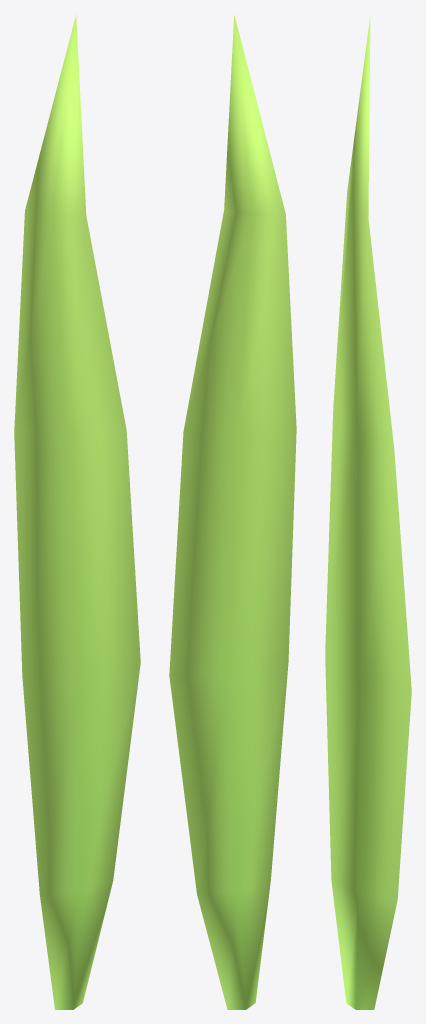
File: kelp.glb
3 renders of one model, left to right at view 1: azimuth 30°, elevation 25°; view 2: azimuth 210°, elevation 25°; view 3: azimuth 330°, elevation 25°, orthographic.
Visible parts, largest first — view 1: kelp; view 2: kelp; view 3: kelp.
Part boxes in pixels (x1=…): kelp: x1=14, y1=14, x2=140, y2=1009; kelp: x1=169, y1=15, x2=296, y2=1009; kelp: x1=325, y1=16, x2=411, y2=1009.
Bounding box in the file's own units: 1.3 × 12 × 0.6.
